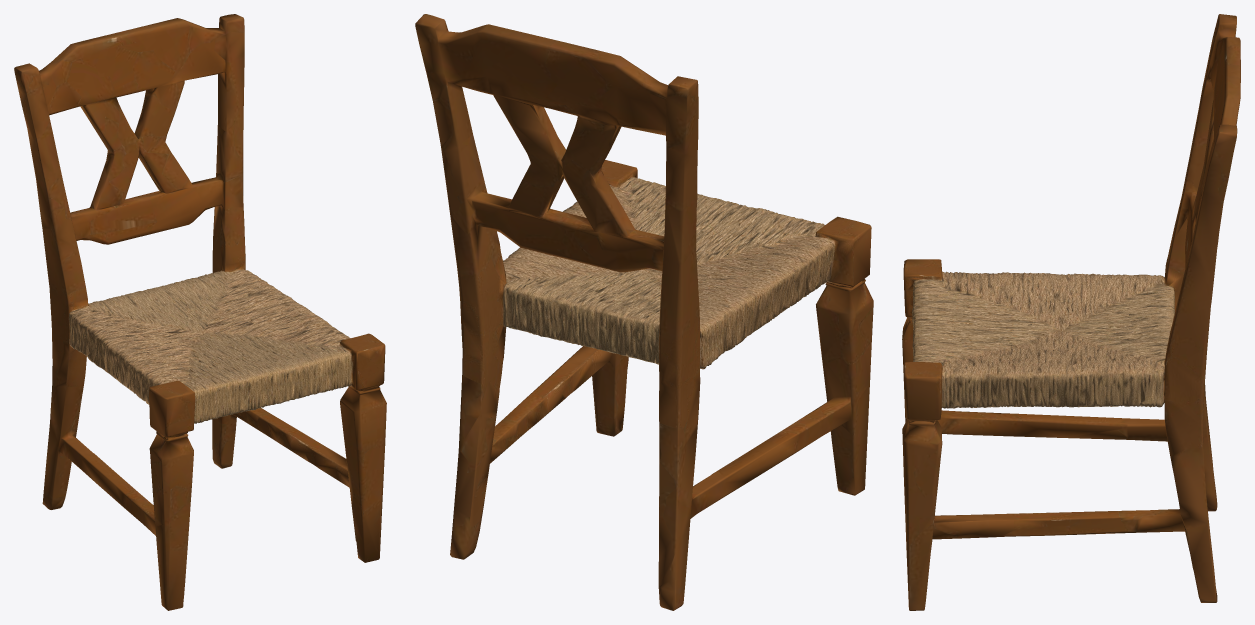
Rendered from diningChair.glb.
The picture shows the model from 3 angles, left to right: view 1: azimuth 30°, elevation 25°; view 2: azimuth 150°, elevation 25°; view 3: azimuth 270°, elevation 25°; orthographic projection. The views are drawn at different scales.
Bounding box in the file's own units: 1 × 1.9 × 1.19.
1 material, 1 textured.
